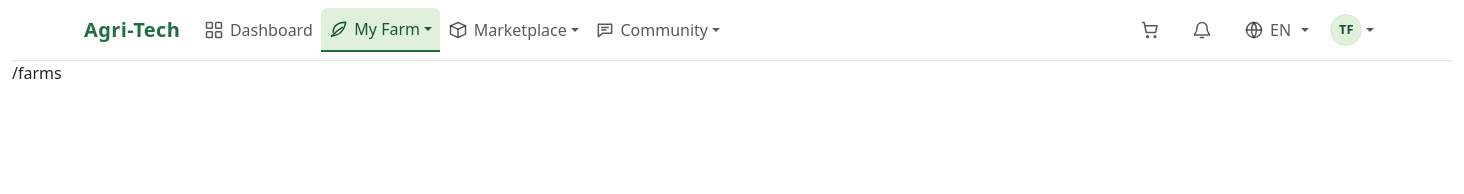
Test case: AppNavbar › opens Profile and signs out from the avatar menu
Click the button named "User menu" at (1352, 30), box [1325,8,1380,52]
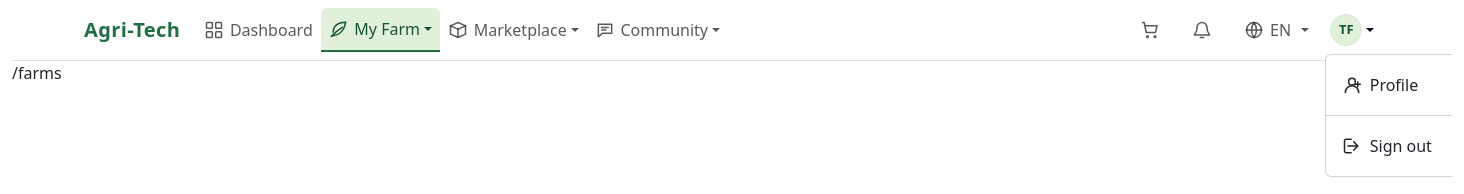
Click the link "Profile" at (1380, 85), box [1342,74,1418,96]
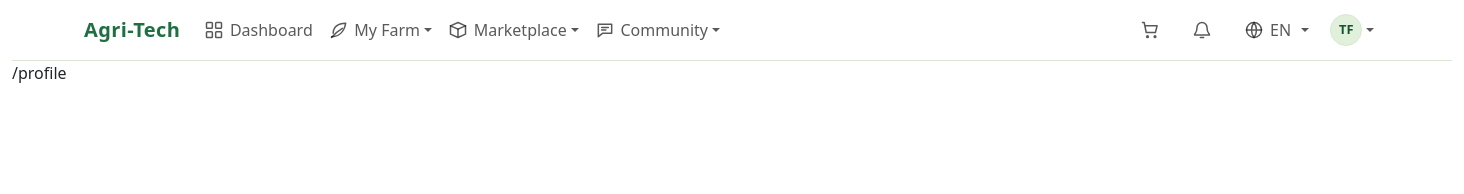
Expected: the text with test id "current-path" reads "/profile", [12,62,66,84]
Click the button named "User menu" at (1352, 30), box [1325,8,1380,52]
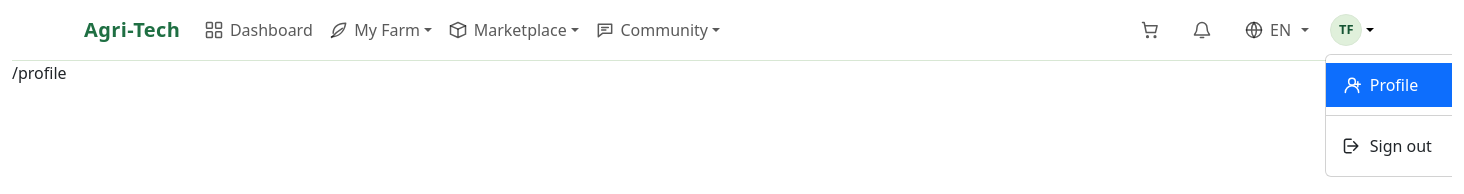
Click the button "Sign out" at (1389, 146), box [1326,124,1452,168]
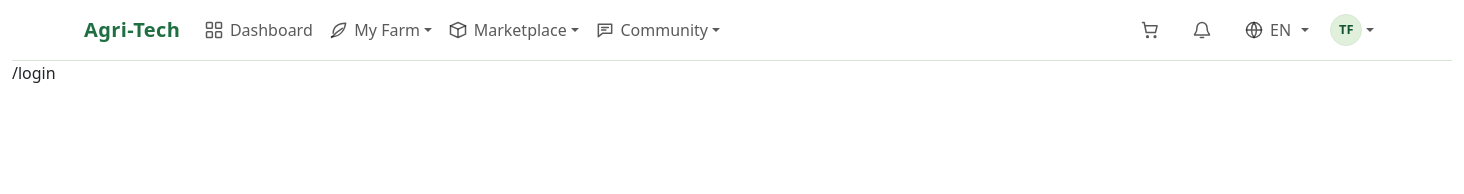
Expected: the text with test id "current-path" reads "/login", [12,62,56,84]
